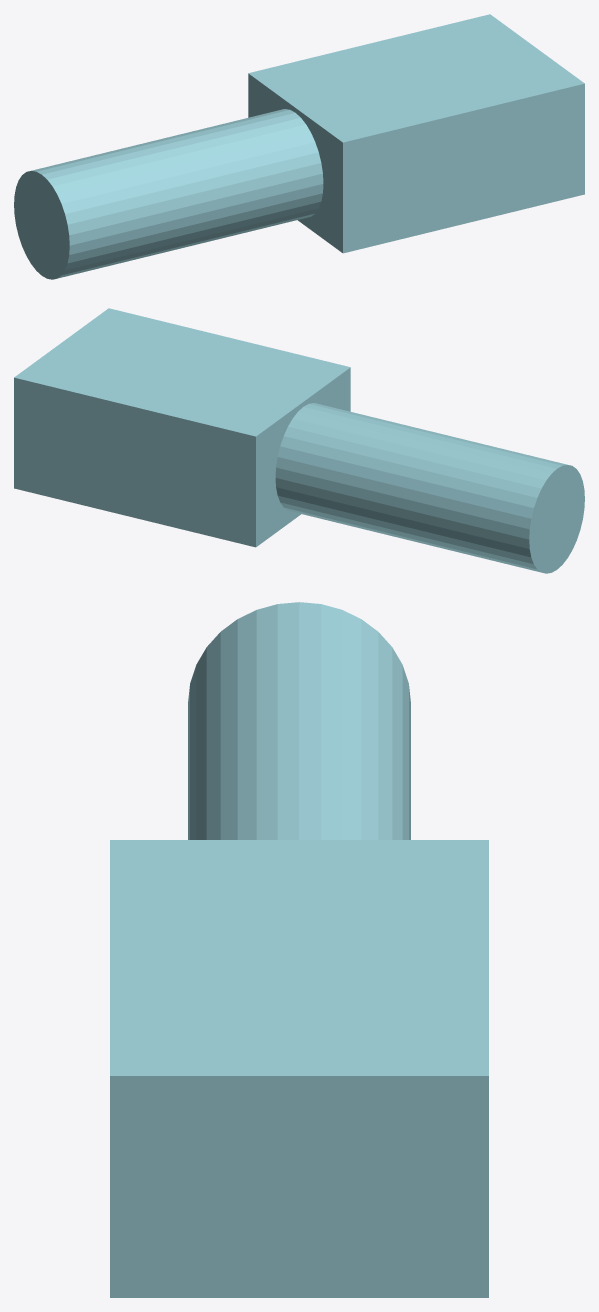
The model's file is cylinder_brush_v9013.obj.
3 renders of one model, top to bottom at view 1: azimuth 30°, elevation 25°; view 2: azimuth 150°, elevation 25°; view 3: azimuth 270°, elevation 25°, orthographic. The views are drawn at different scales.
Size of the model in its own units: 0.2088 by 0.0446 by 0.0691.
1 material, 1 textured.
